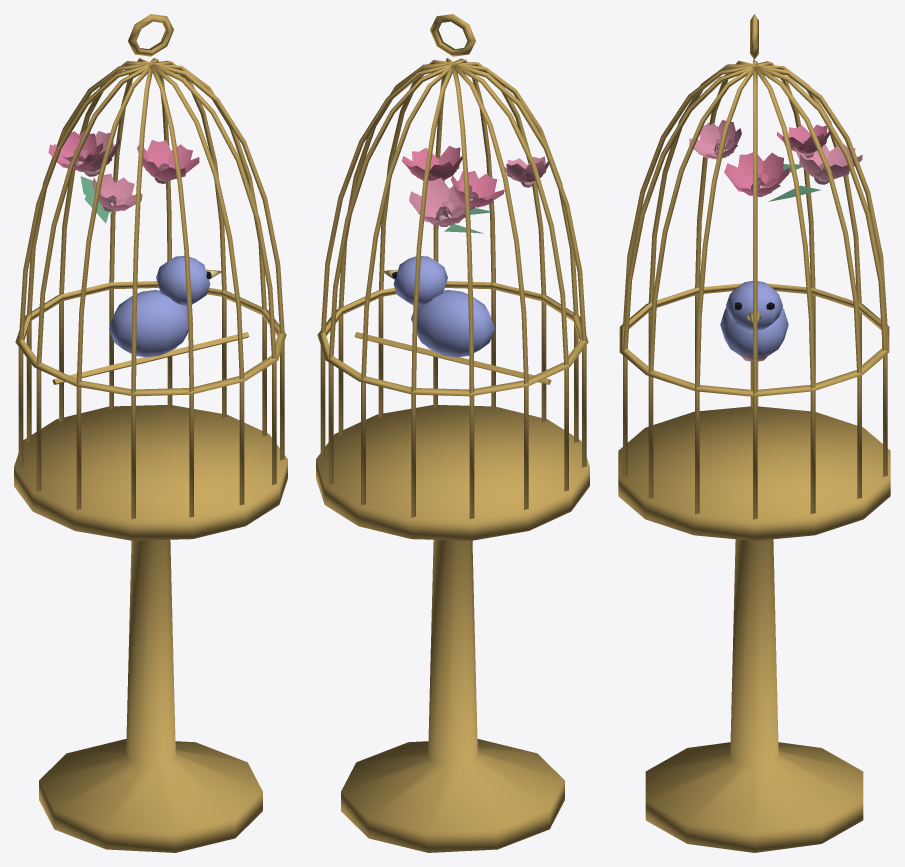
File: birdcage_gilt.glb
3 views of the same model, side by side, from view 1: azimuth 30°, elevation 25°; view 2: azimuth 150°, elevation 25°; view 3: azimuth 270°, elevation 25° (orthographic).
Parts seen in each view (by area): view 1: birdcage_gilt; view 2: birdcage_gilt; view 3: birdcage_gilt.
Boxes of the visible parts, <box> form: birdcage_gilt: <box>14,14,287,852</box>; birdcage_gilt: <box>316,14,589,852</box>; birdcage_gilt: <box>618,14,890,852</box>.
Size of what is drawn, in the model's own units: 0.5 by 1.6 by 0.5.
